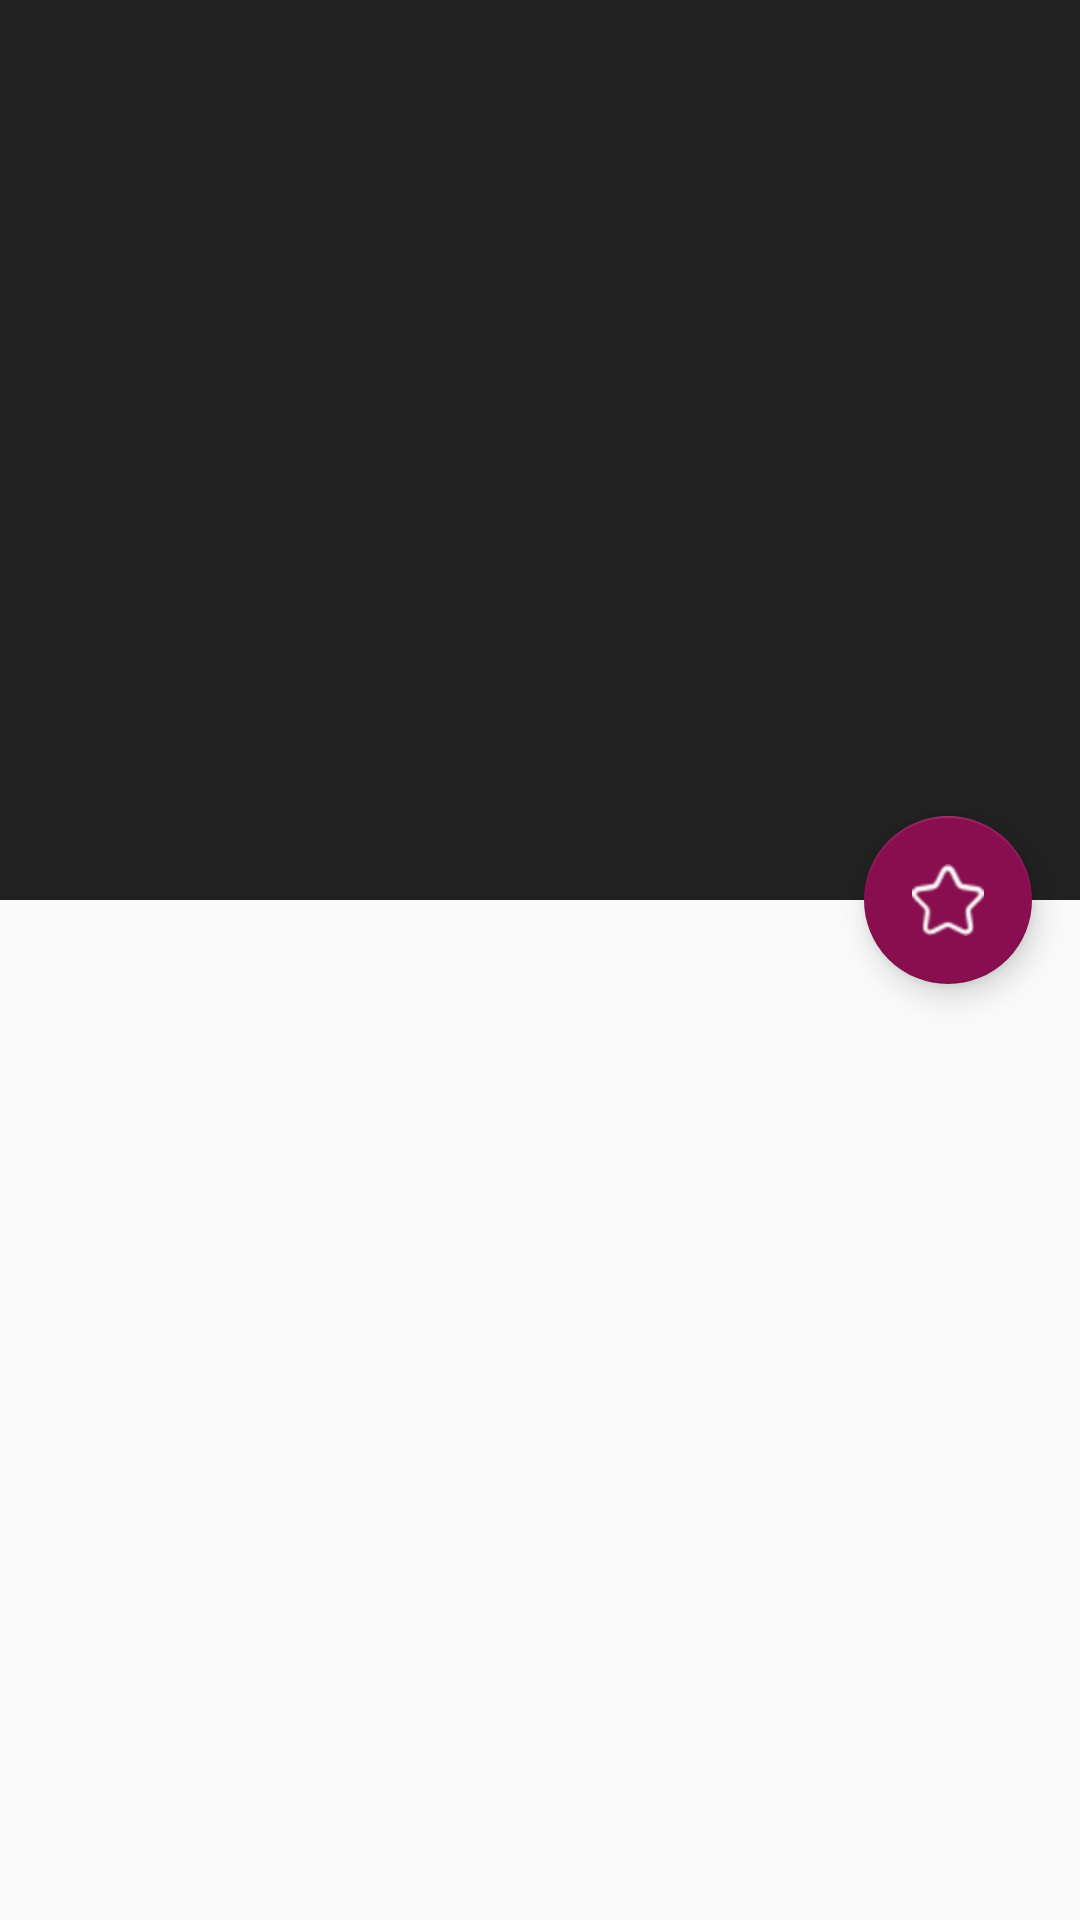

Screen size 1080*1920. Icon name, then its center in pixels as (x=x, y=y):
favorite border: (x=948, y=900)
